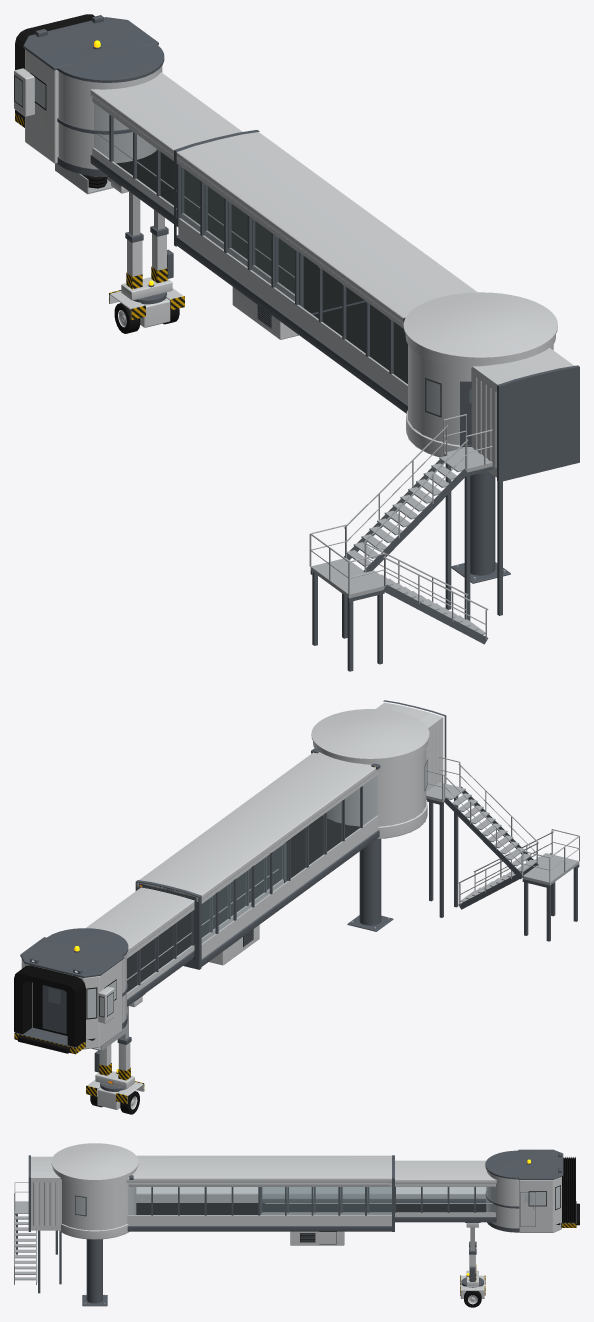
File: jet_bridge_glass.glb
The picture shows the model from 3 angles, top to bottom: view 1: azimuth 30°, elevation 25°; view 2: azimuth 150°, elevation 25°; view 3: azimuth 270°, elevation 25°; orthographic projection. The views are drawn at different scales.
Parts seen in each view (by area): view 1: JB_Rotunda, JB_Tunnel_A, JB_Tunnel_B, JB_Cab, JB_DriveColumn; view 2: JB_Tunnel_A, JB_Rotunda, JB_Cab, JB_Tunnel_B, JB_DriveColumn; view 3: JB_Tunnel_A, JB_Rotunda, JB_Tunnel_B, JB_Cab, JB_DriveColumn.
Part boxes in pixels (box(x1,y1,x2,y2)): JB_Rotunda: box(309, 292, 579, 671); JB_Tunnel_A: box(174, 130, 477, 413); JB_Tunnel_B: box(90, 72, 365, 314); JB_Cab: box(14, 14, 164, 194); JB_DriveColumn: box(109, 226, 184, 333); JB_Tunnel_A: box(135, 752, 380, 969); JB_Rotunda: box(311, 700, 579, 941); JB_Cab: box(14, 928, 128, 1054); JB_Tunnel_B: box(85, 842, 286, 1006); JB_DriveColumn: box(86, 1036, 144, 1114); JB_Tunnel_A: box(126, 1155, 394, 1245); JB_Rotunda: box(14, 1143, 138, 1306); JB_Tunnel_B: box(260, 1160, 496, 1222); JB_Cab: box(485, 1149, 579, 1232); JB_DriveColumn: box(460, 1241, 485, 1307).
Size of what is drawn, in the model's own units: 9.08 by 8.24 by 29.14.
8 materials, 2 textured.
